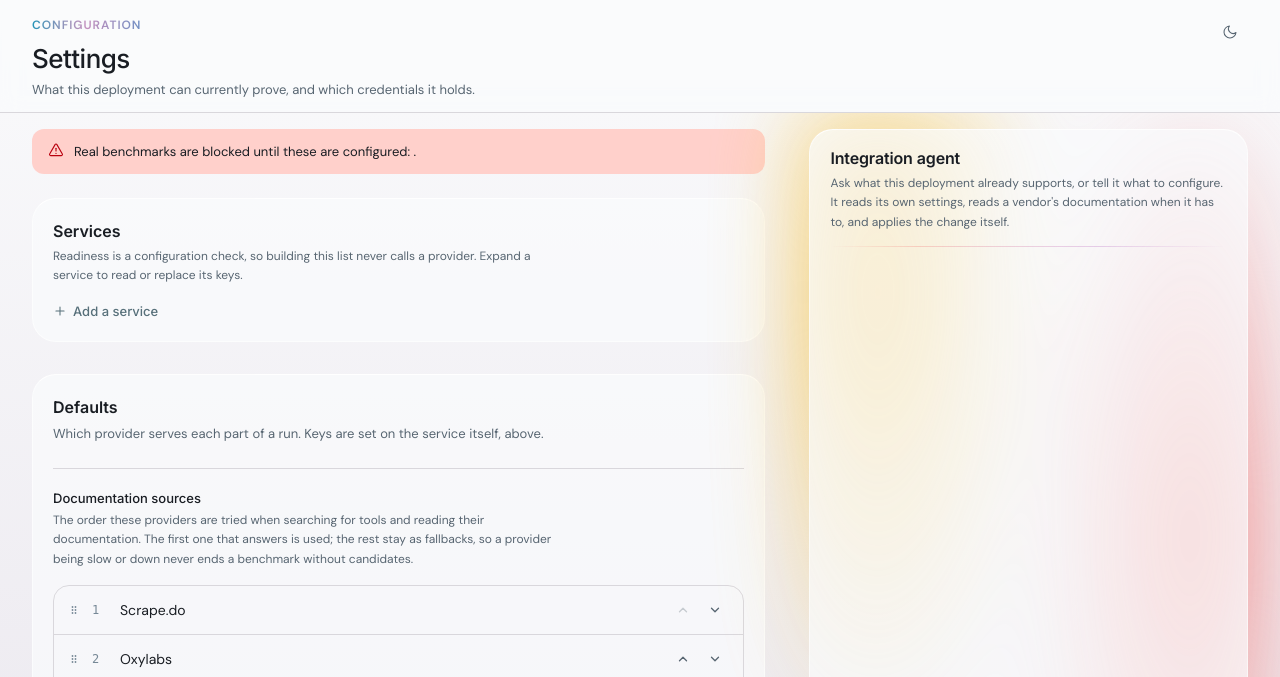
Test case: documentation source order › restores the previous order when saving fails
Click the button named "Move Oxylabs earlier" at (684, 659), box x1=670 y1=645 x2=698 y2=673
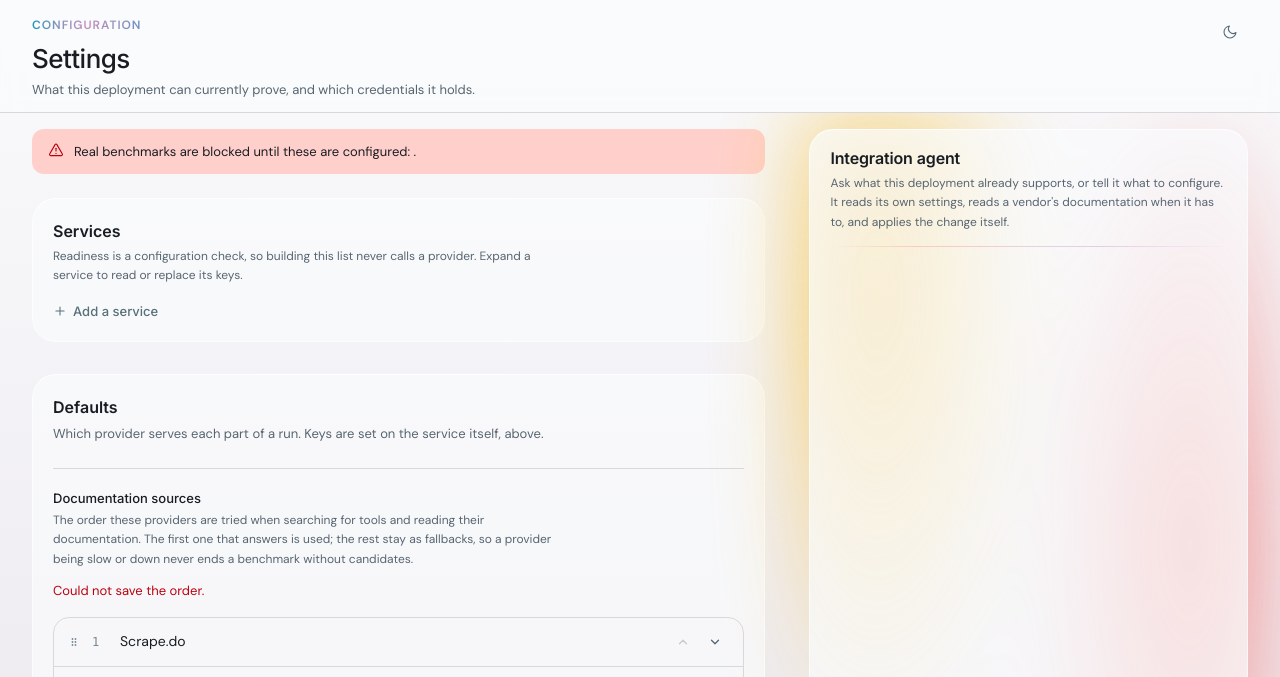
Expected: the list item "1 Scrape.do" is shown, x1=68 y1=628 x2=730 y2=656
Now the text "Could not save the order." is shown, box x1=53 y1=582 x2=204 y2=599
